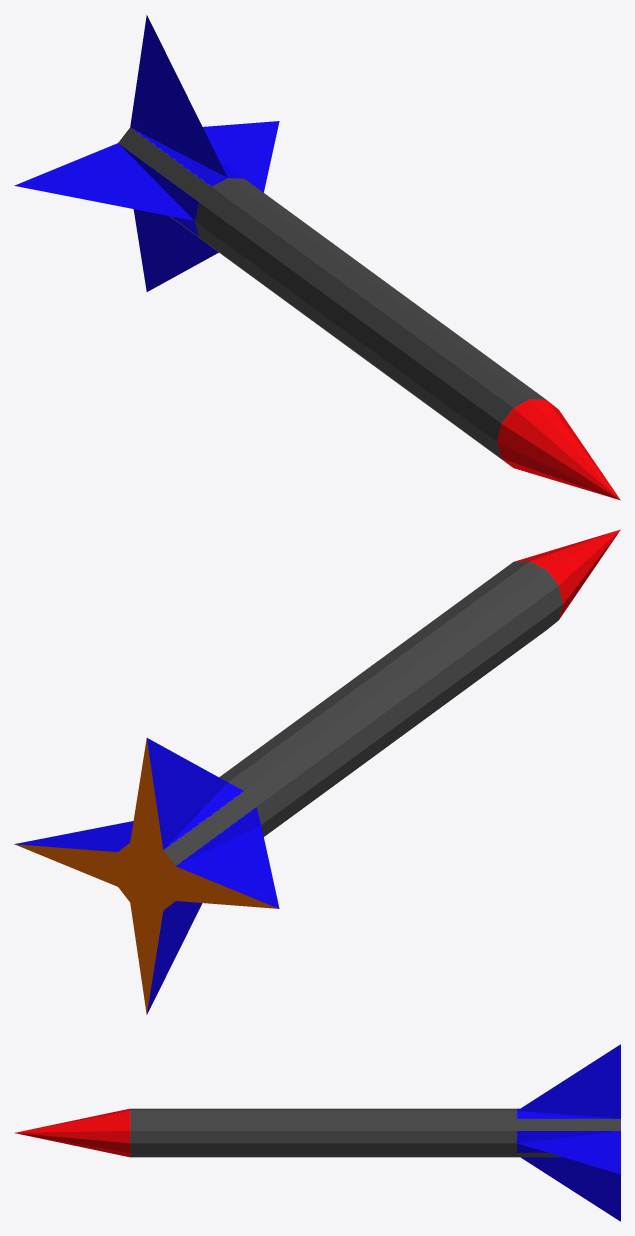
The model's file is Missile.dae.
3 views of the same model, one above another, from view 1: azimuth 30°, elevation 25°; view 2: azimuth 150°, elevation 25°; view 3: azimuth 270°, elevation 25° (orthographic). The views are drawn at different scales.
Parts seen in each view (by area): view 1: Missile; view 2: Missile; view 3: Missile.
Boxes of the visible parts, x1,y1,x2,y2 form: Missile: (14,15,620,500); Missile: (14,529,620,1014); Missile: (15,1044,620,1221).
Size of the model in its own units: 0.8 by 2.47 by 0.8.
Materials: 1 (1 with a texture image).
